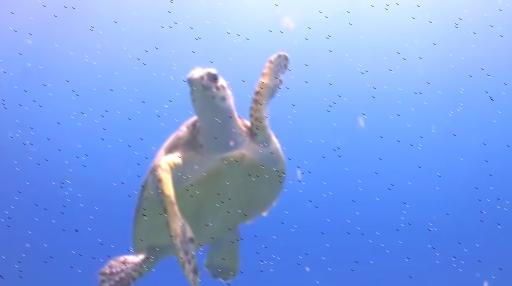Fish: (100, 54, 289, 285)
